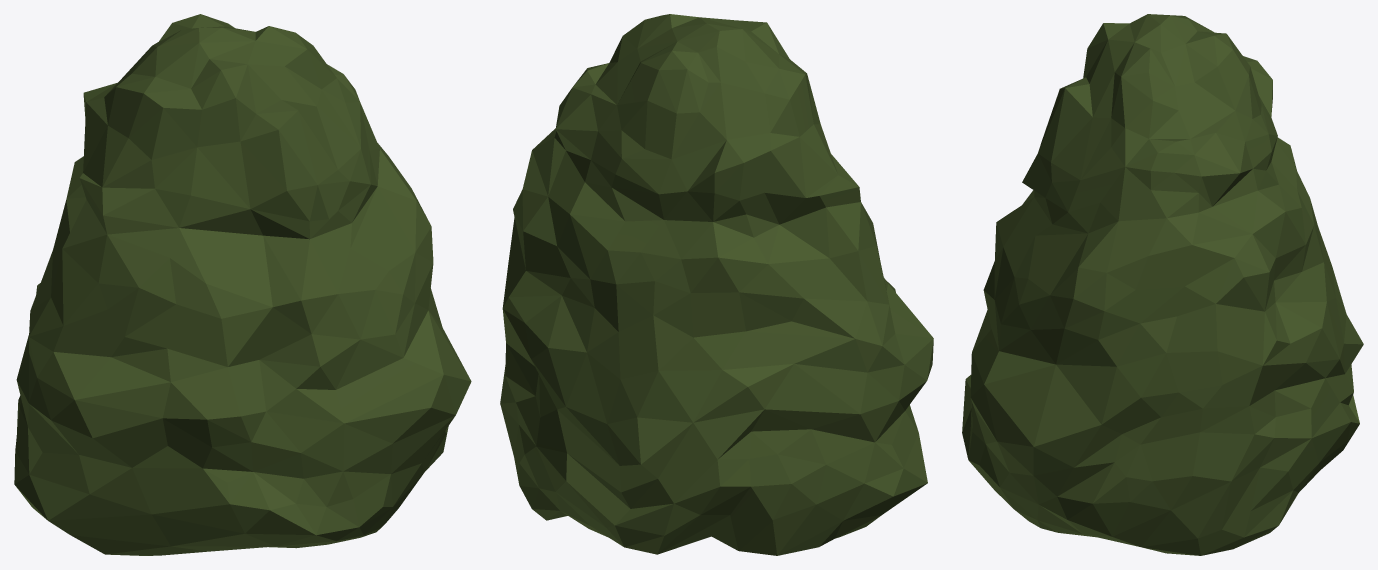
File: delh_foli_01.fbx
The picture shows the model from 3 angles, left to right: view 1: azimuth 30°, elevation 25°; view 2: azimuth 150°, elevation 25°; view 3: azimuth 270°, elevation 25°; orthographic projection. The views are drawn at different scales.
Visible parts, largest first — view 1: delh_foli_01; view 2: delh_foli_01; view 3: delh_foli_01.
Part boxes in pixels (bbox=[...]): delh_foli_01: bbox=[14, 14, 471, 555]; delh_foli_01: bbox=[500, 14, 933, 555]; delh_foli_01: bbox=[962, 14, 1363, 555].
Bounding box in the file's own units: 80.91 × 96.11 × 74.81.
